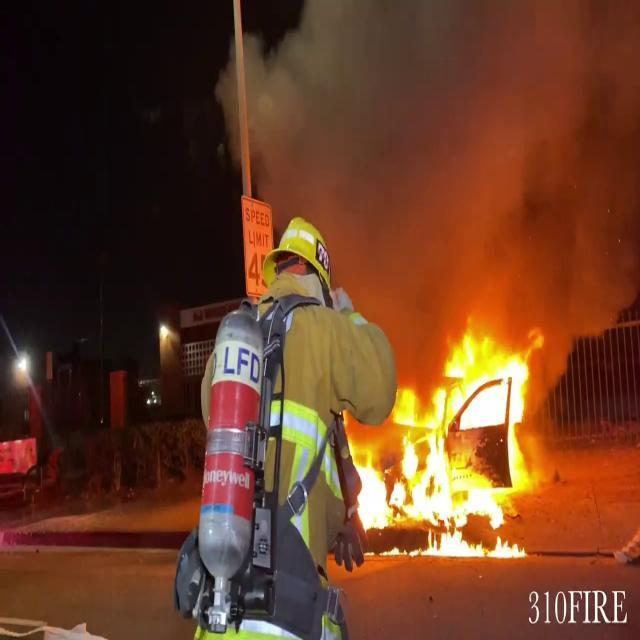Fire: (352, 318, 546, 558)
Smoke: (230, 0, 638, 328)
